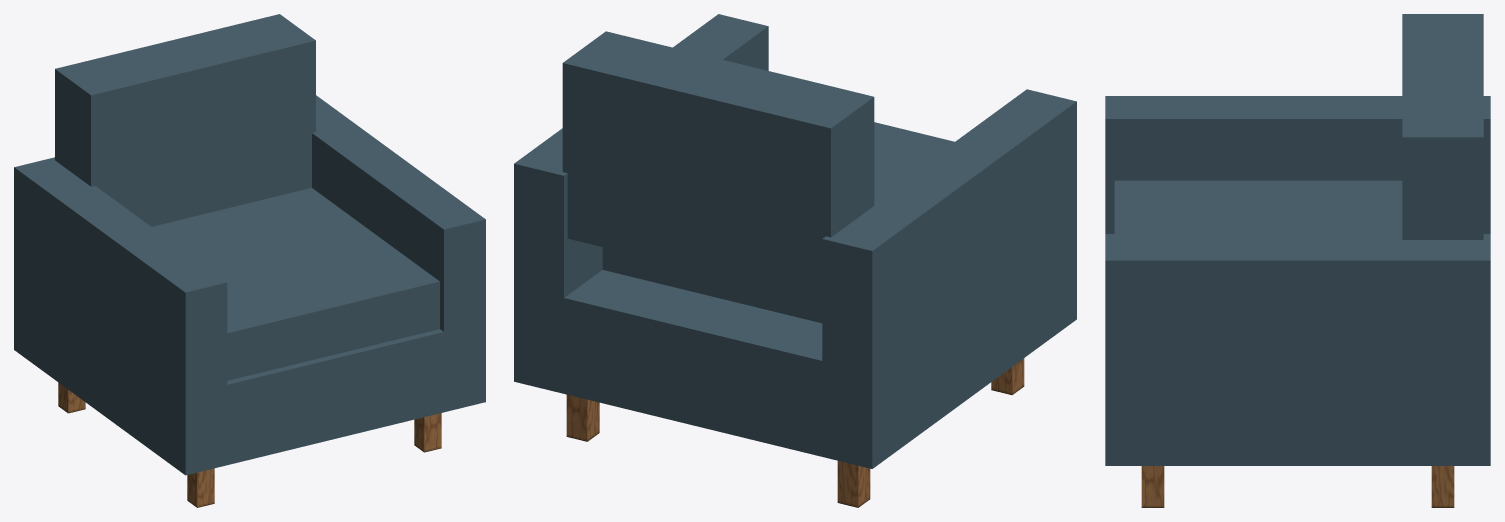
Rendered from Fotel_klasszikus.obj.
3 renders of one model, left to right at view 1: azimuth 30°, elevation 25°; view 2: azimuth 150°, elevation 25°; view 3: azimuth 270°, elevation 25°, orthographic. The views are drawn at different scales.
Size of the model in its own units: 0.86 by 0.89 by 0.85.
2 materials, 1 textured.
